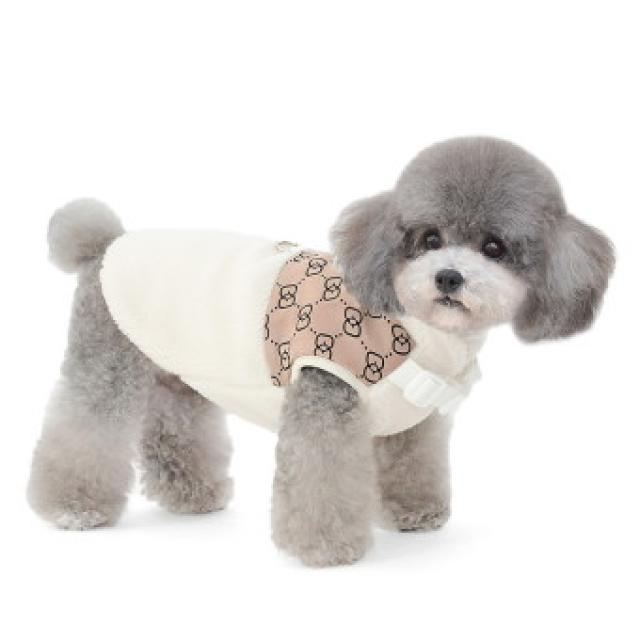cloth: (100, 230, 484, 436)
